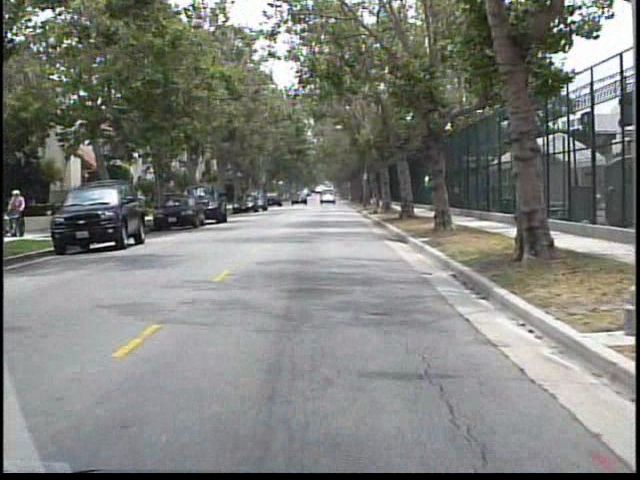person: (11, 186, 30, 238)
